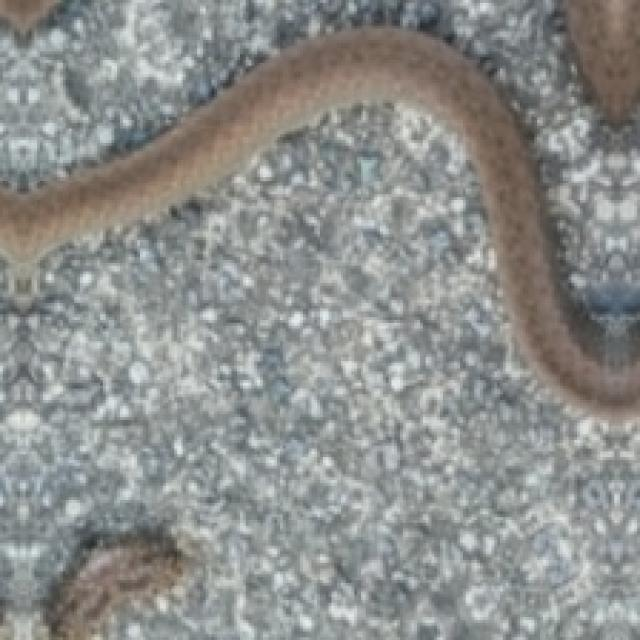reinhardts lined snake: (0, 29, 637, 420), (563, 0, 637, 123)
